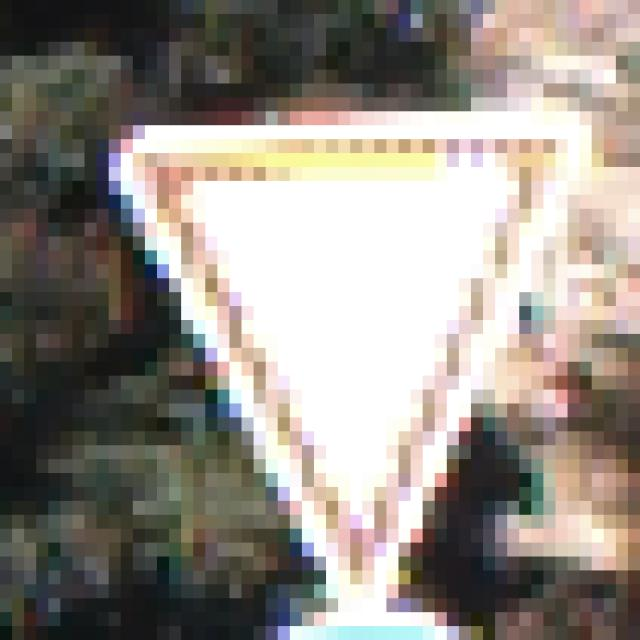Give Way: (74, 71, 569, 572)
